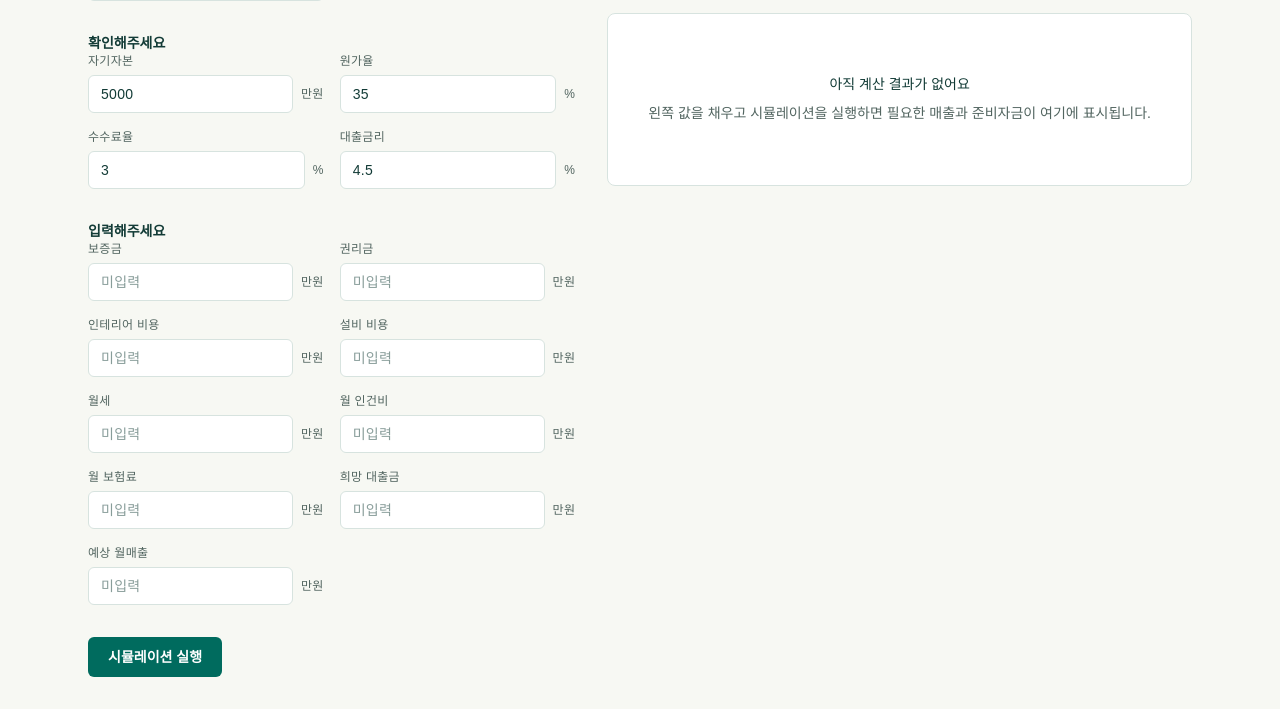
Test case: 첫 계산이 최초안으로 저장된다
(page scrolled)
Step 1. Click the button "시뮬레이션 실행" → (155, 657), box top-left (88, 637), bottom-right (222, 677)
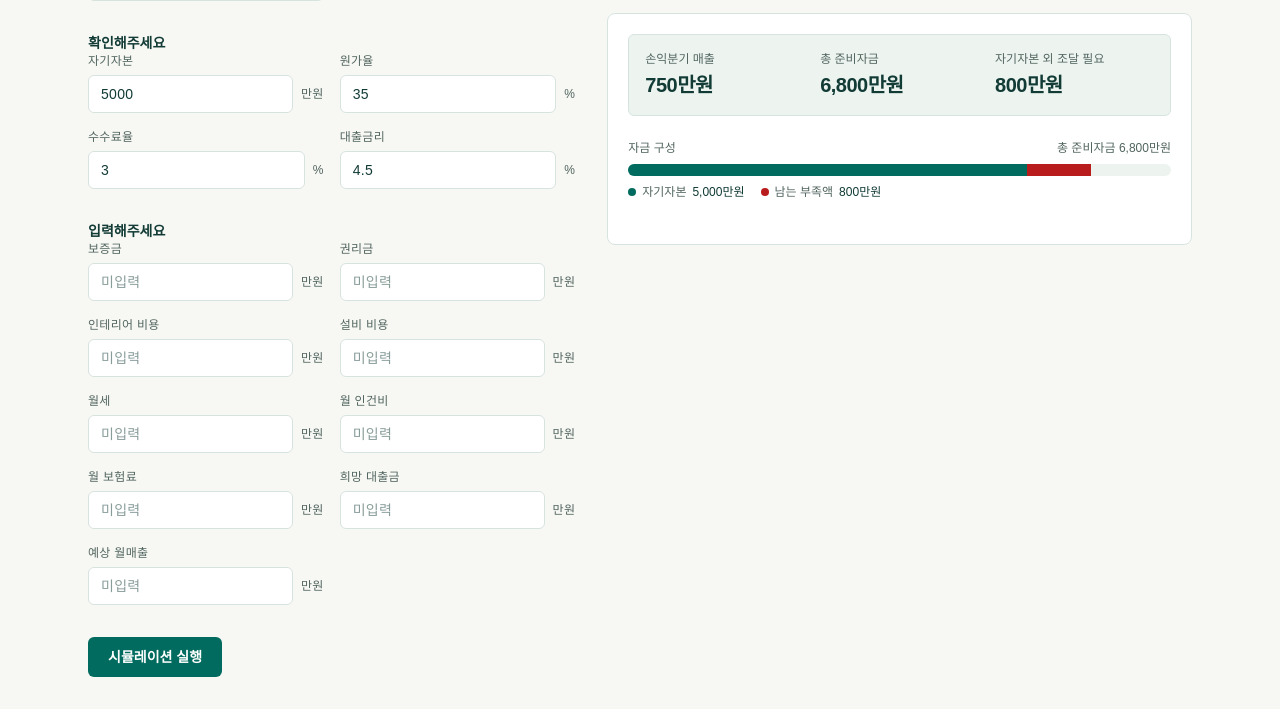
Expected: the text "자기자본 외 조달 필요" is shown, top-left (995, 52), bottom-right (1104, 66)
